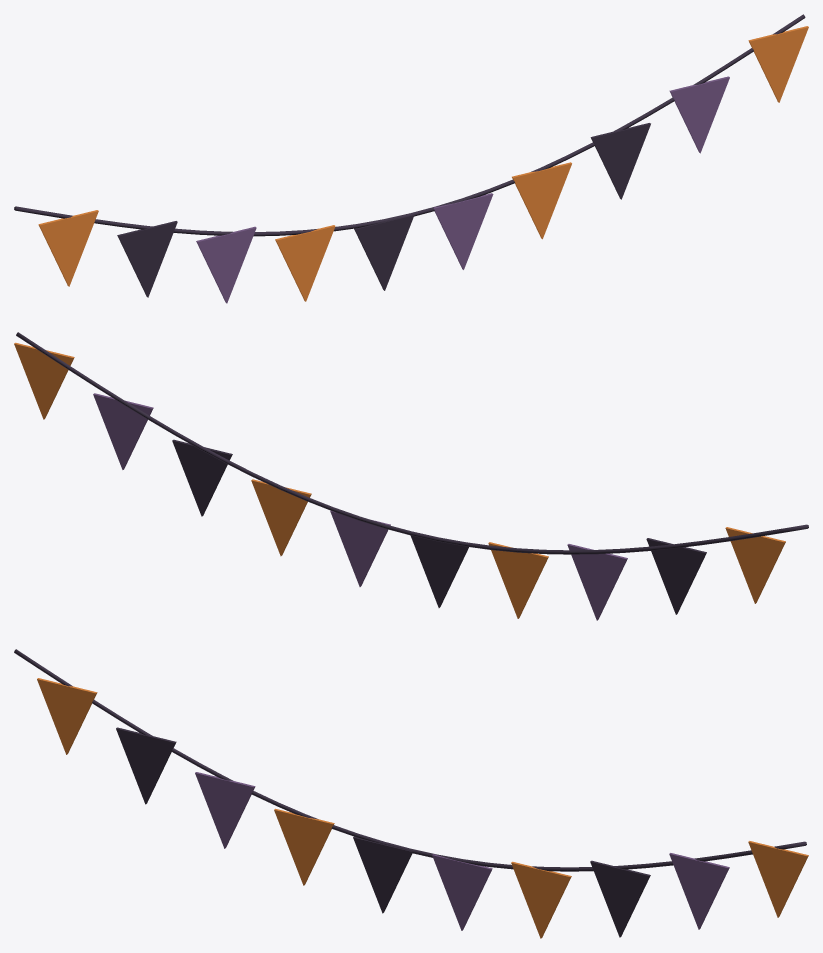
Rendered from garland.glb.
The picture shows the model from 3 angles, top to bottom: view 1: azimuth 30°, elevation 25°; view 2: azimuth 150°, elevation 25°; view 3: azimuth 330°, elevation 25°; orthographic projection.
Visible parts, largest first — view 1: LH_garland; view 2: LH_garland; view 3: LH_garland.
Boxes of the visible parts, <box> form: LH_garland: <box>14,14,808,303</box>; LH_garland: <box>14,332,808,620</box>; LH_garland: <box>14,649,808,938</box>.
Size of the model in its own units: 1.21 by 0.252 by 0.00685.
